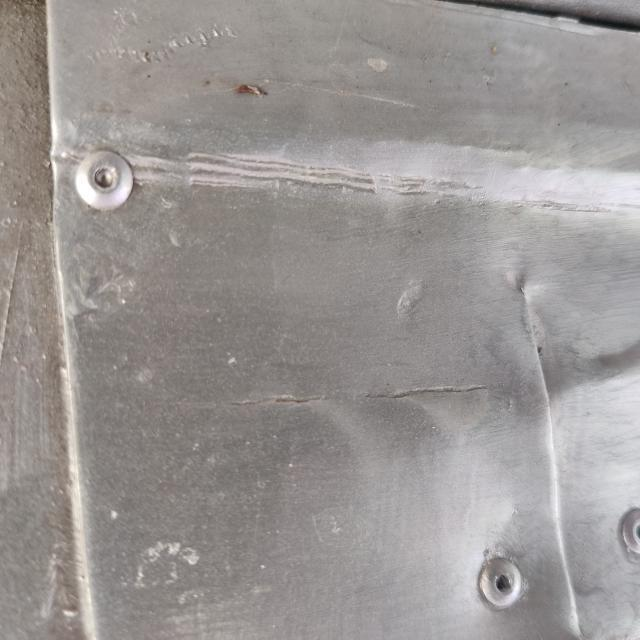Scratch: (207, 332, 520, 460)
